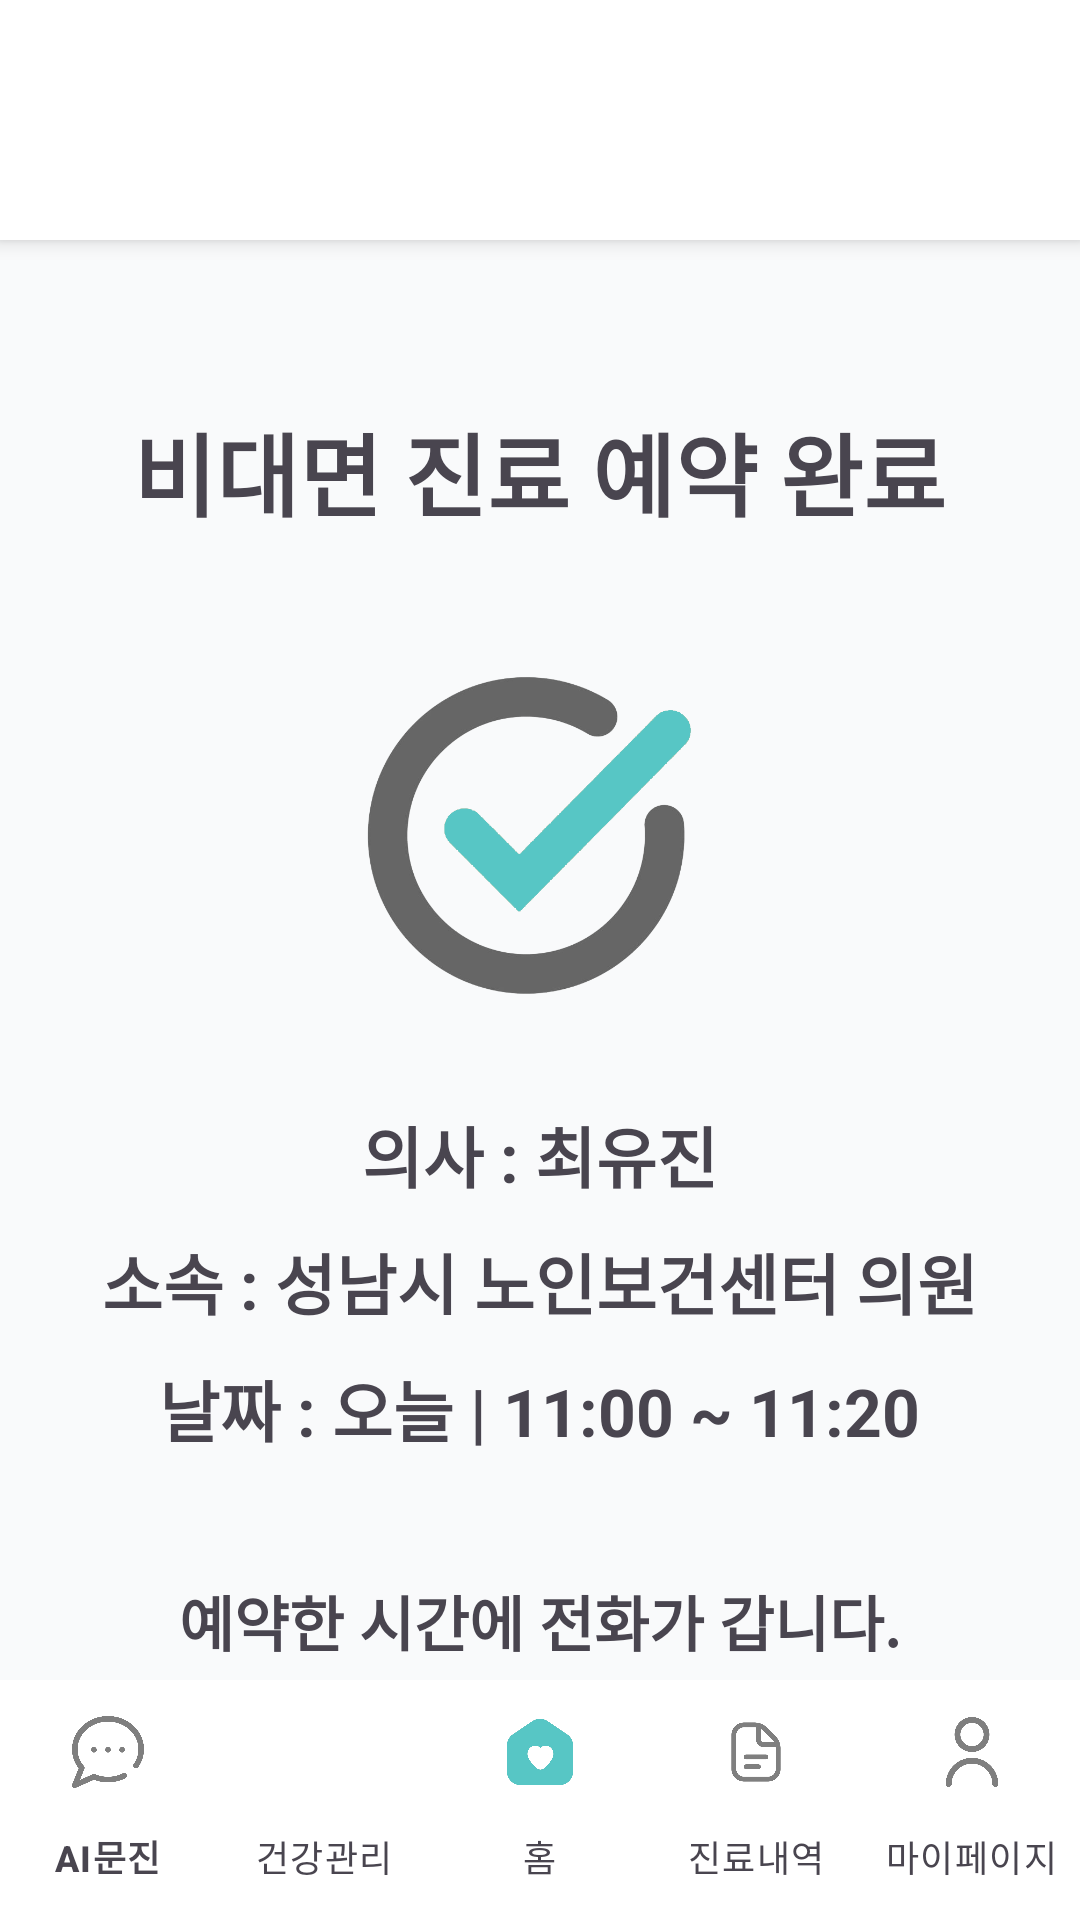

Named icons in this screenshot (1080 x 1920) and their centers, (x=x, y=y):
complete: (x=529, y=835)
